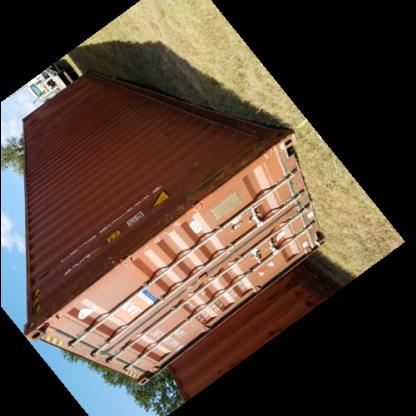Damage: (32, 271, 102, 332), (211, 135, 273, 177), (124, 108, 175, 136), (27, 110, 51, 131), (183, 162, 207, 174)
